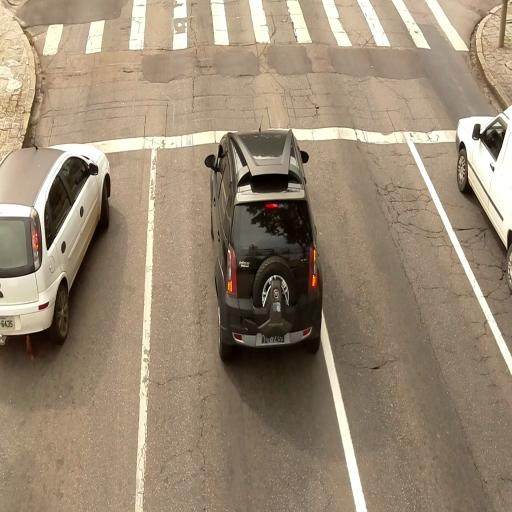car: (206, 123, 322, 361), (2, 143, 114, 351), (453, 98, 512, 292)
